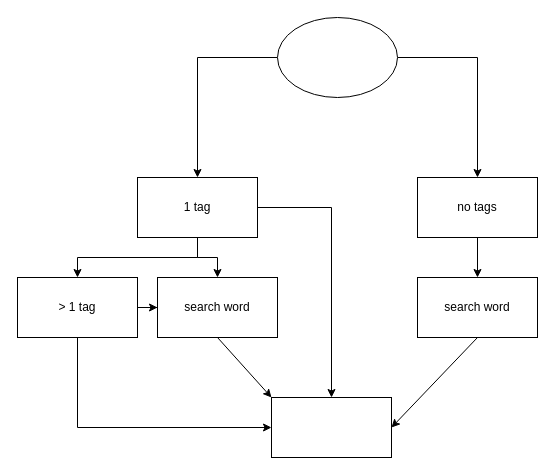
Image size: 555x475. Some labels were removed from this diagram. Here are the shapes that lost their labels. From the top down, the box of each, then its label:
(276, 16, 398, 98): Search
(270, 396, 392, 458): find recipe
